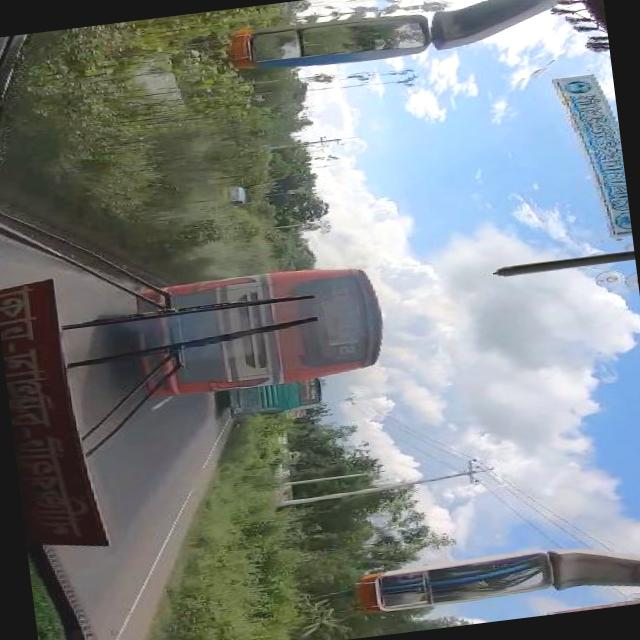bus: (134, 263, 387, 399), (225, 379, 322, 421)
truck: (218, 184, 246, 208)
